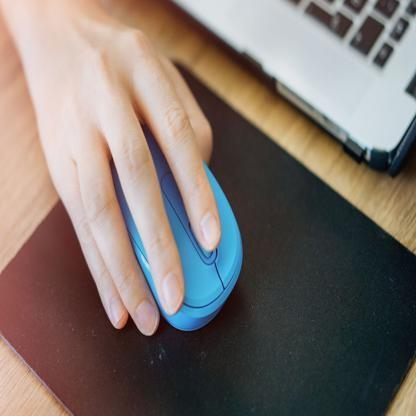not trash: (86, 124, 280, 333)
